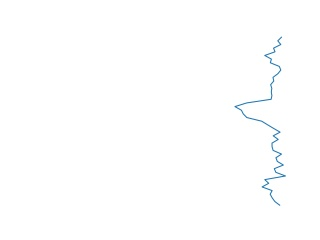interdistributaryEstuary: (229, 37, 289, 209)
